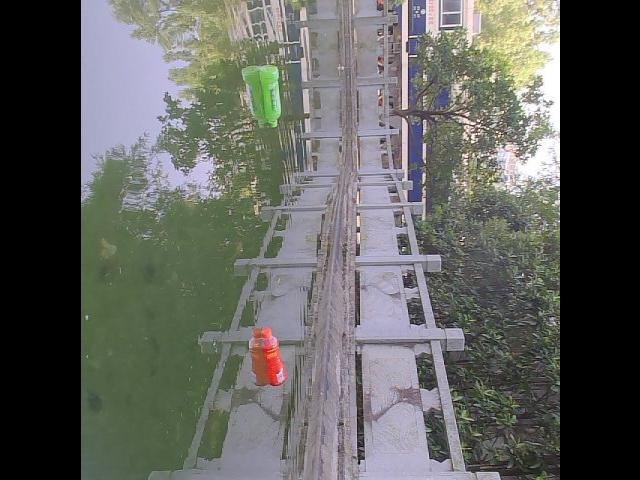Bottle: (254, 320, 288, 394), (254, 58, 284, 134)
